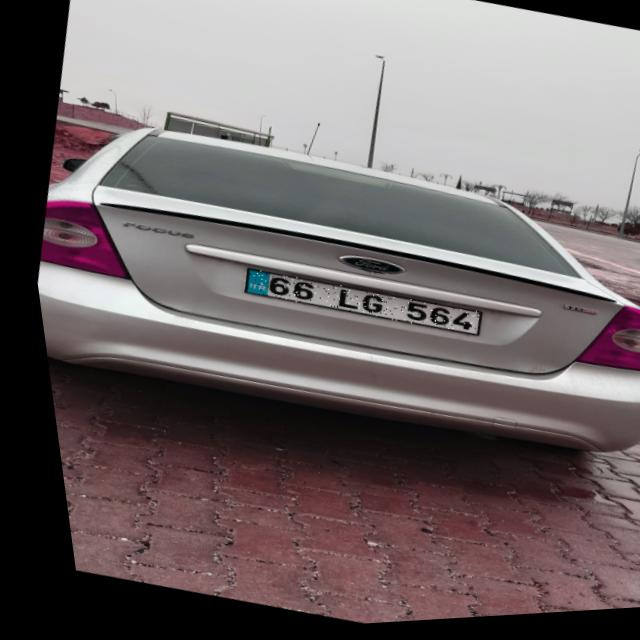license_plate: (231, 259, 474, 351)
